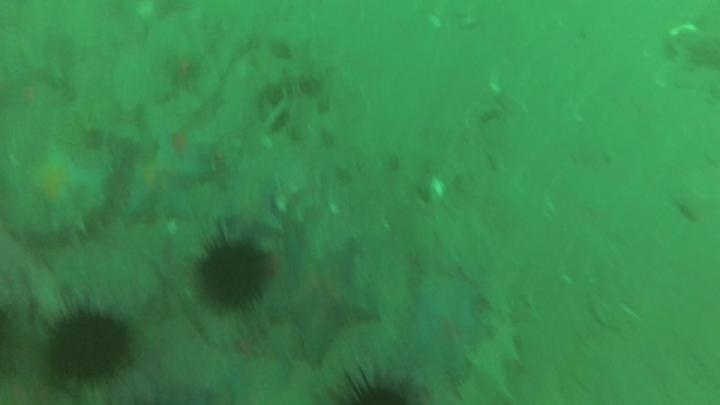echinus: (43, 308, 135, 388), (193, 234, 272, 312), (324, 360, 430, 405)
holothurian: (257, 67, 326, 106)
starfish: (266, 236, 380, 361), (406, 279, 491, 380), (22, 143, 113, 235), (122, 136, 212, 224), (214, 178, 286, 242)
